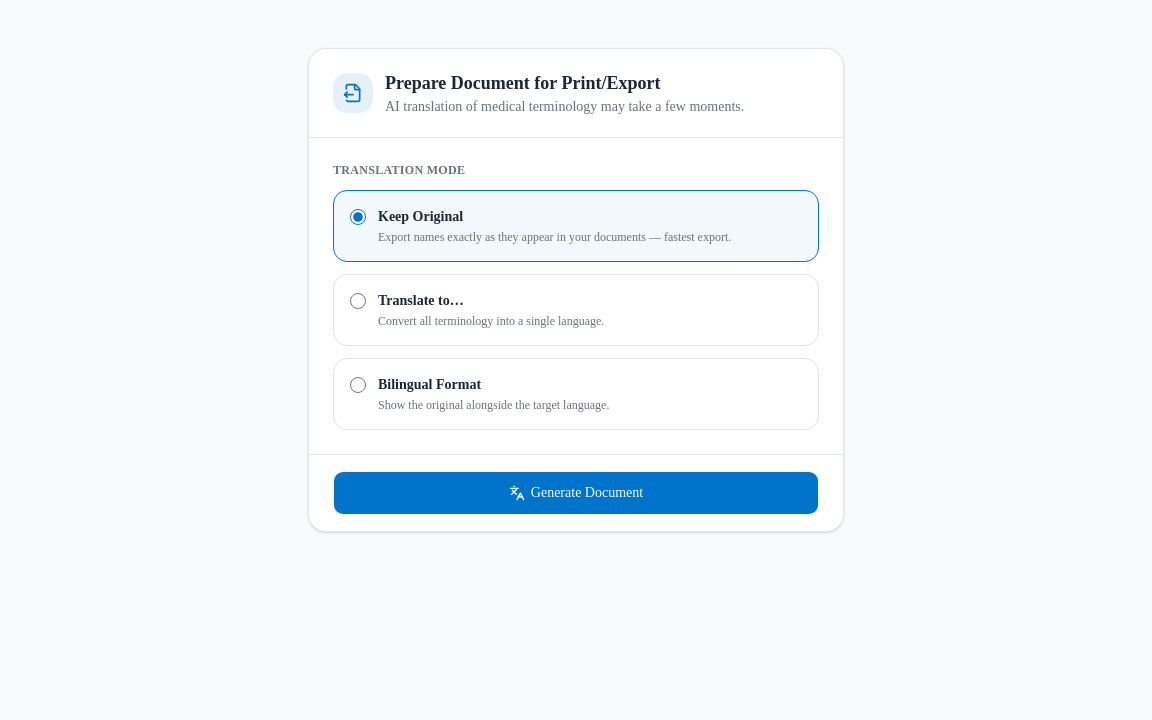
Test: PrintSetup › review dialog Back cancels and stays on the setup screen
Click the 2nd radio button.
click(358, 301)  # box left=350, top=293, right=366, bottom=309
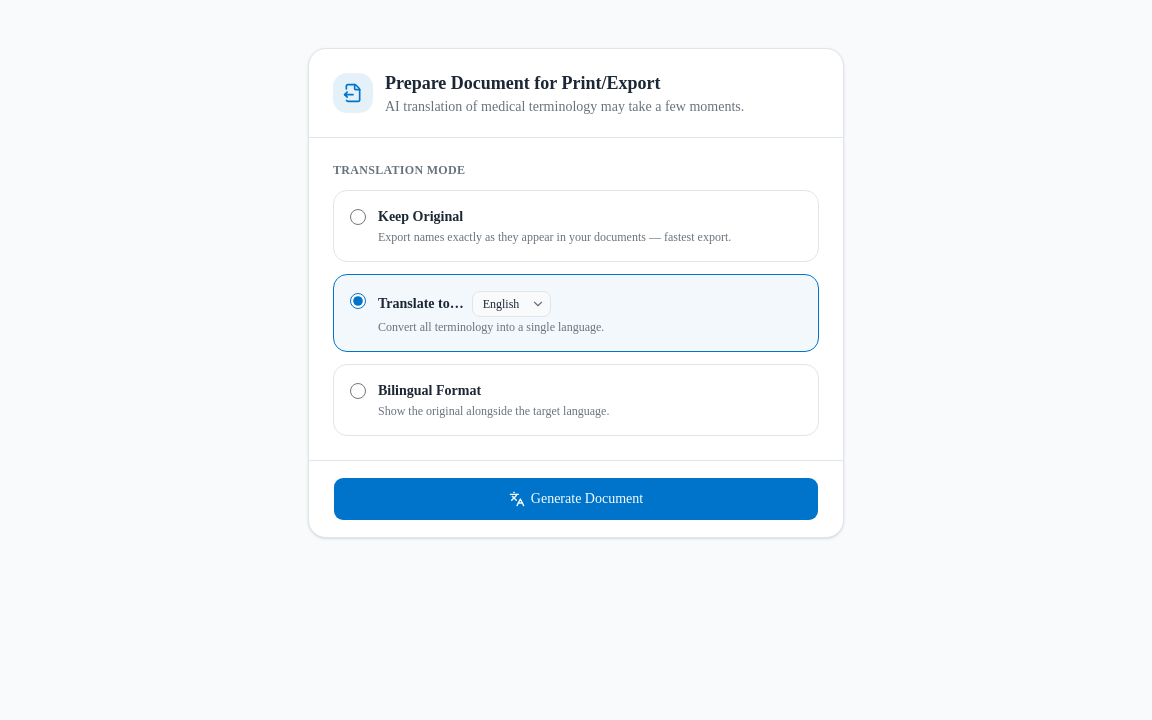
Select "French" in the dropdown at (511, 304), box left=472, top=291, right=551, bottom=317
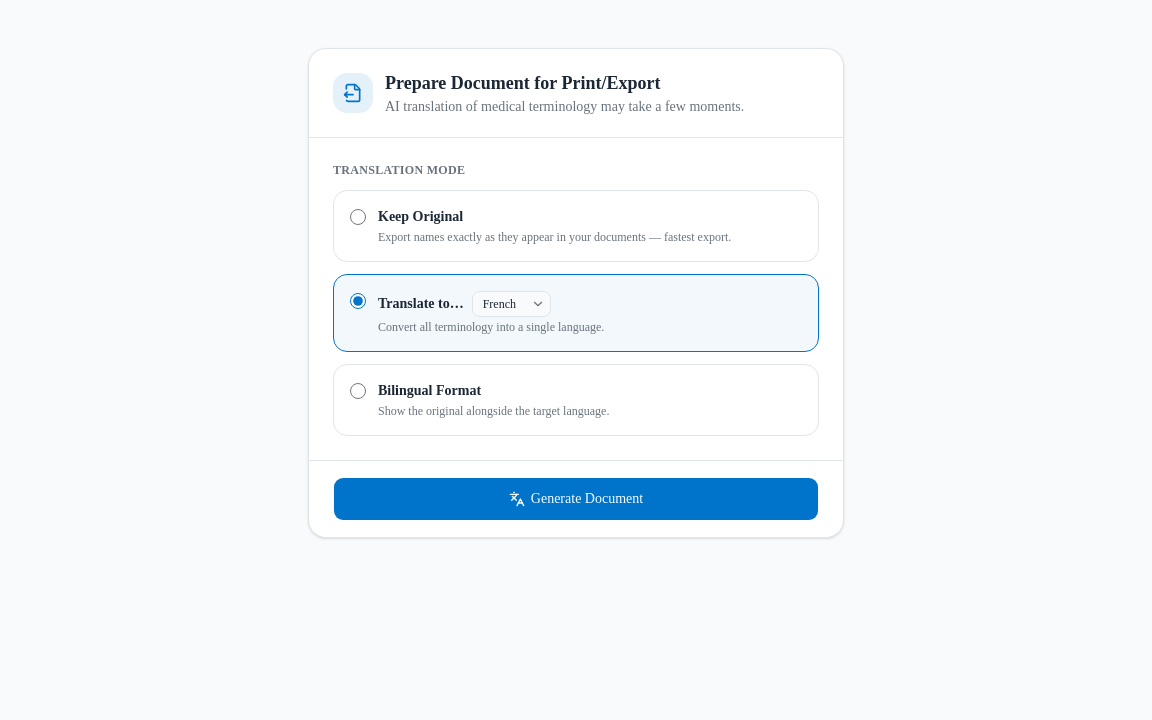
Click the button "Generate Document".
click(576, 499)  # box left=333, top=477, right=819, bottom=521
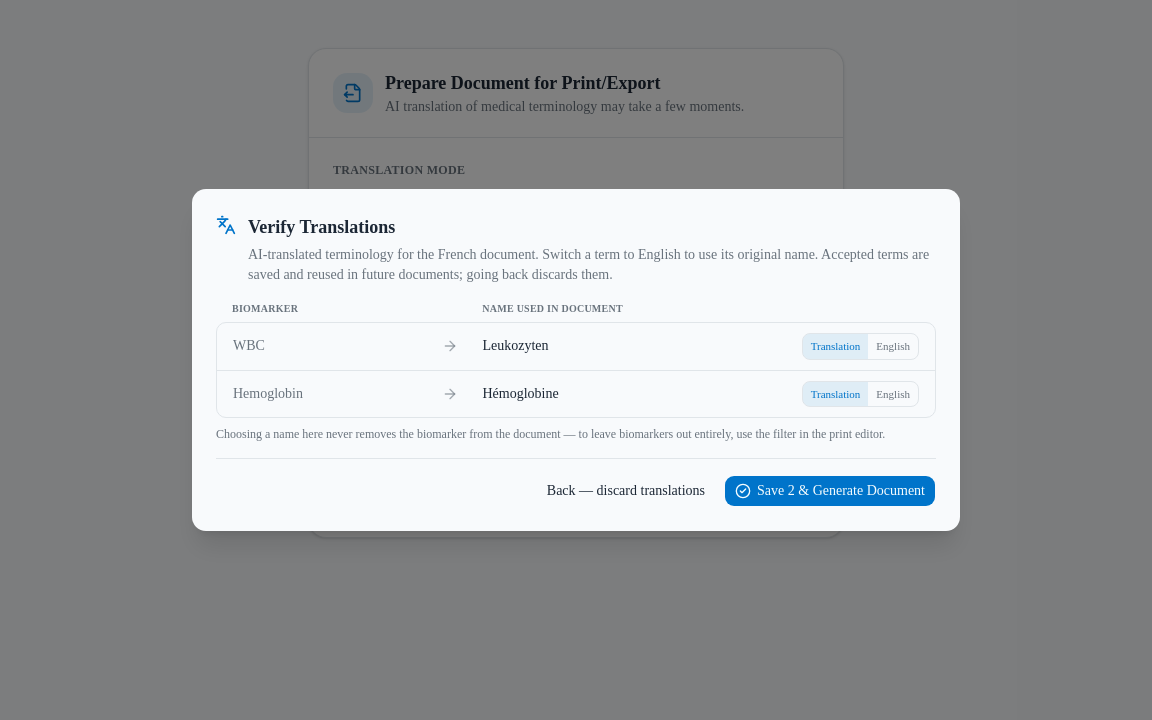
Click the button "Back — discard translations".
click(626, 491)  # box left=536, top=475, right=716, bottom=507
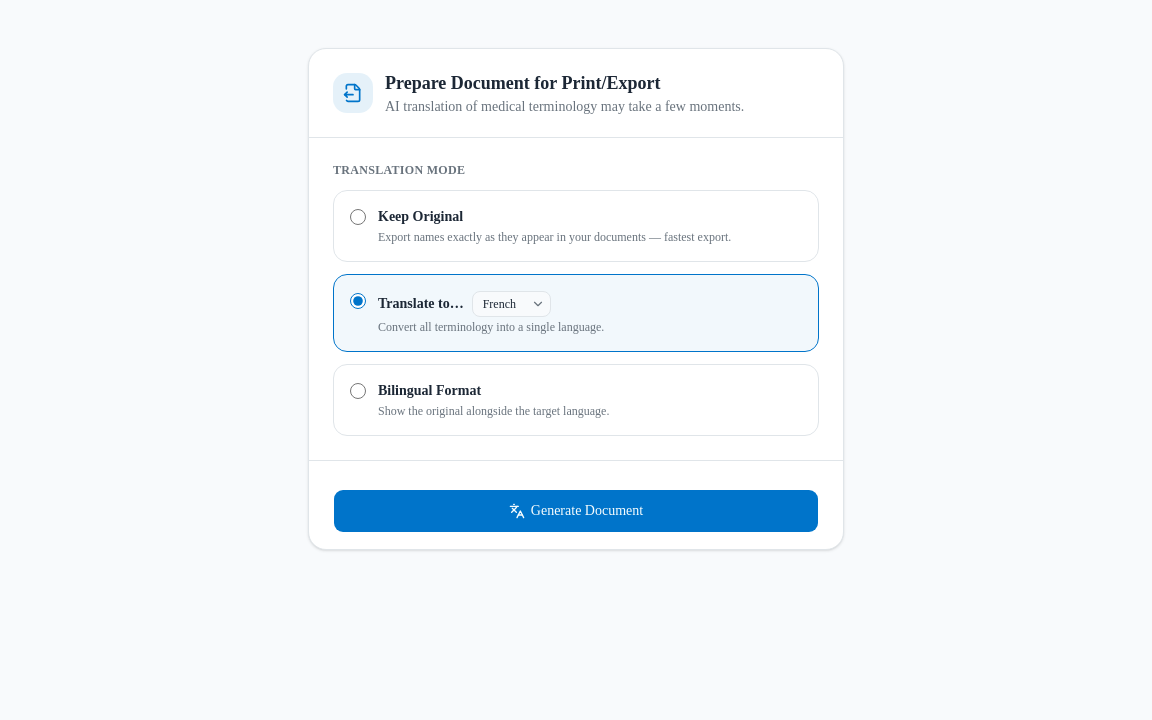
Check: the heading "Verify Translations" is gone
